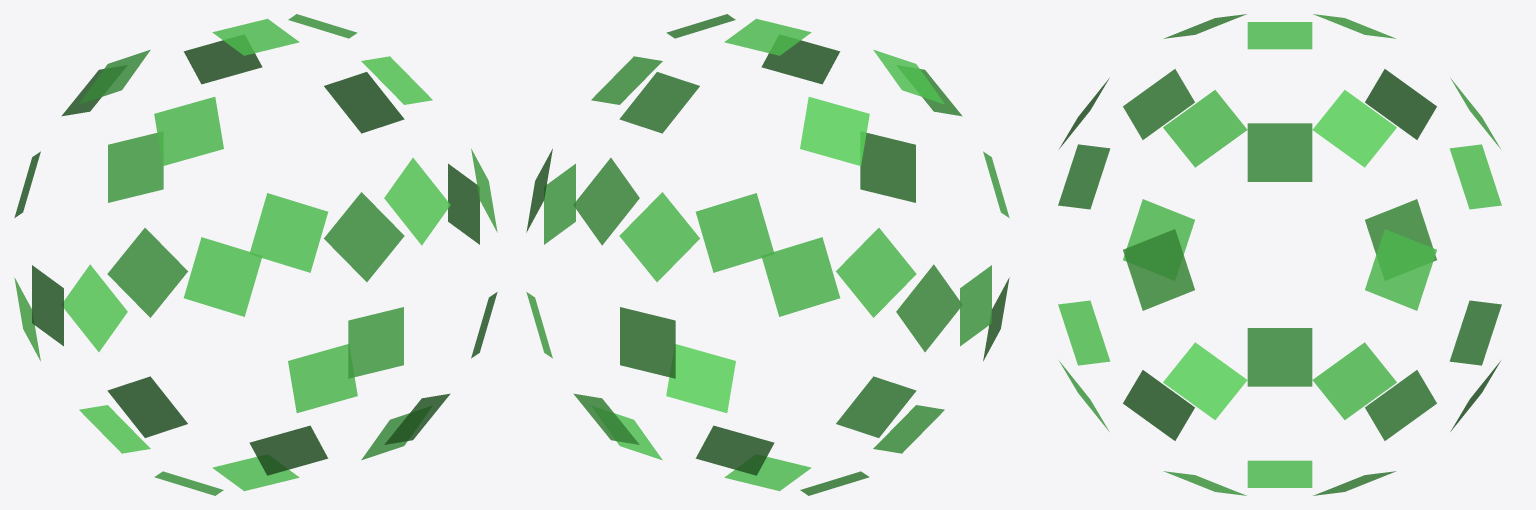
File: TruncatedIcosidodecahedronA2.obj
3 renders of one model, left to right at view 1: azimuth 30°, elevation 25°; view 2: azimuth 150°, elevation 25°; view 3: azimuth 270°, elevation 25°, orthographic.
Size of the model in its own units: 7.47 by 7.47 by 7.47.
